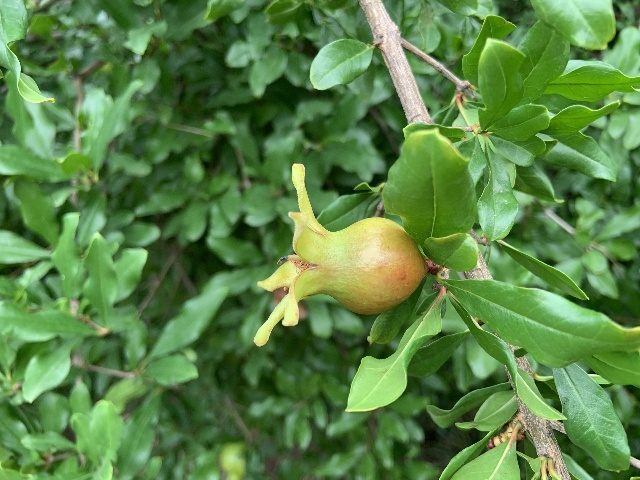early-fruit: (255, 161, 424, 345)
